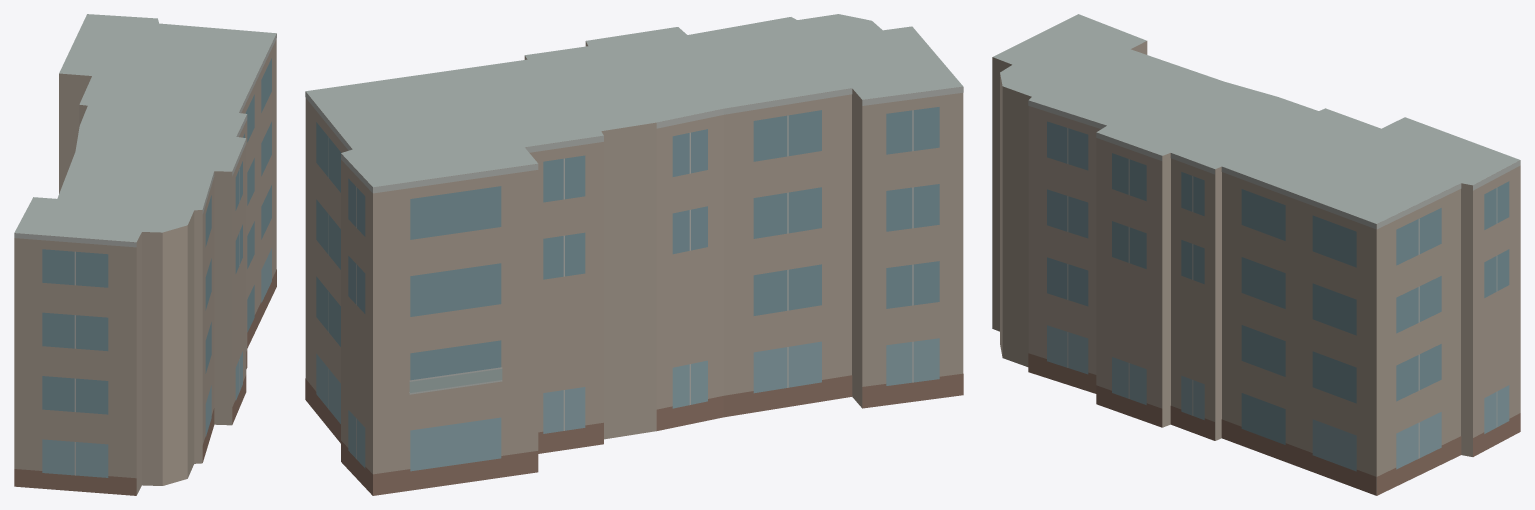
File: survey-upis-32674899.glb
The picture shows the model from 3 angles, left to right: view 1: azimuth 30°, elevation 25°; view 2: azimuth 150°, elevation 25°; view 3: azimuth 270°, elevation 25°; orthographic projection. The views are drawn at different scales.
Visible parts, largest first — view 1: survey-upis-32674899.tmp; view 2: survey-upis-32674899.tmp; view 3: survey-upis-32674899.tmp.
Boxes of the visible parts, box(x1,y1,x2,y2) form: survey-upis-32674899.tmp: box(14, 14, 276, 495); survey-upis-32674899.tmp: box(305, 14, 963, 495); survey-upis-32674899.tmp: box(992, 14, 1520, 495).
Size of the model in its own units: 20.23 by 12.2 by 21.49.
